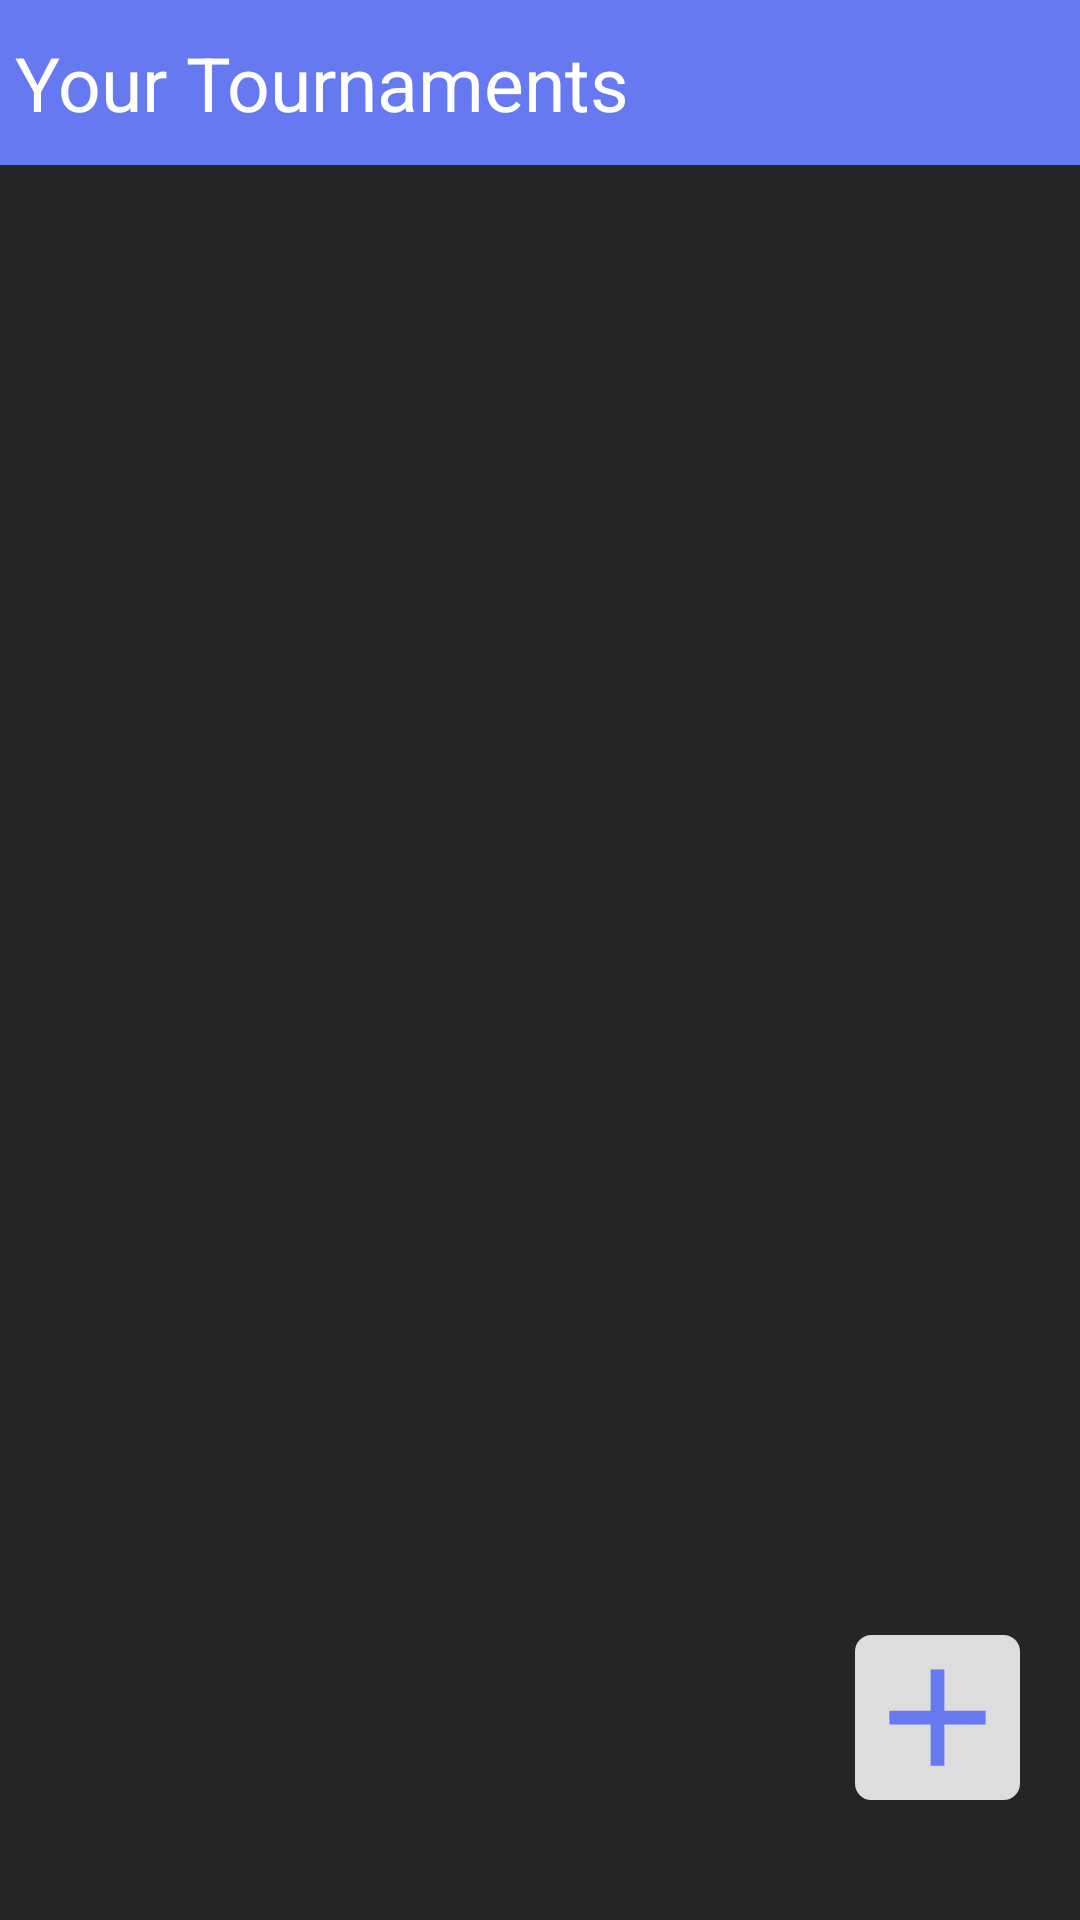

Icon bounding boxes for this 1080×1920 phone screenshot, format (x1, y1, x2, y2):
add: (855, 1635, 1020, 1800)
